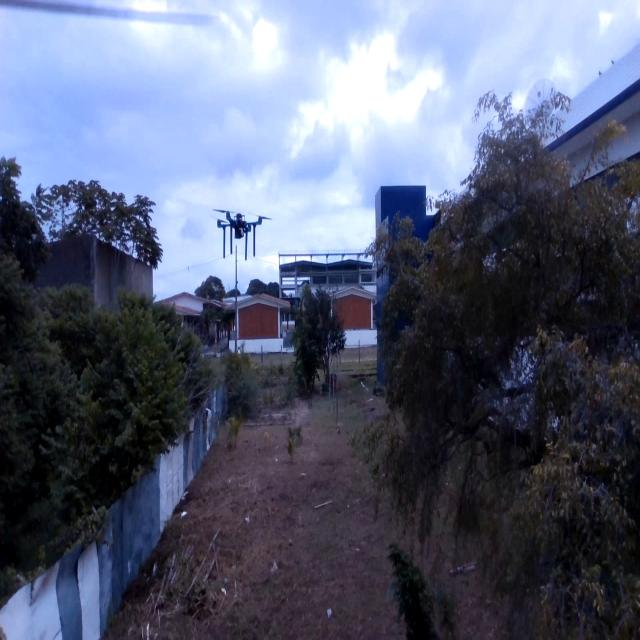-uav-: (206, 197, 272, 271)
